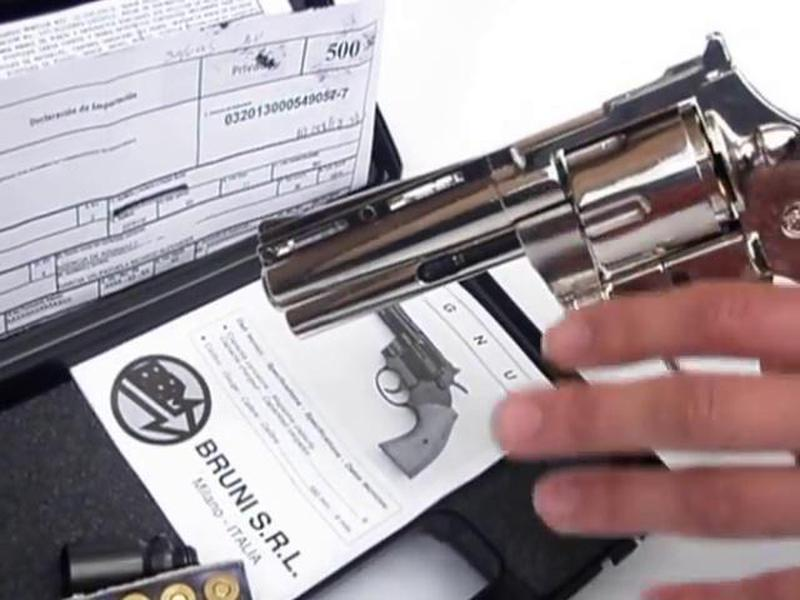Revolver: (248, 15, 800, 403)
